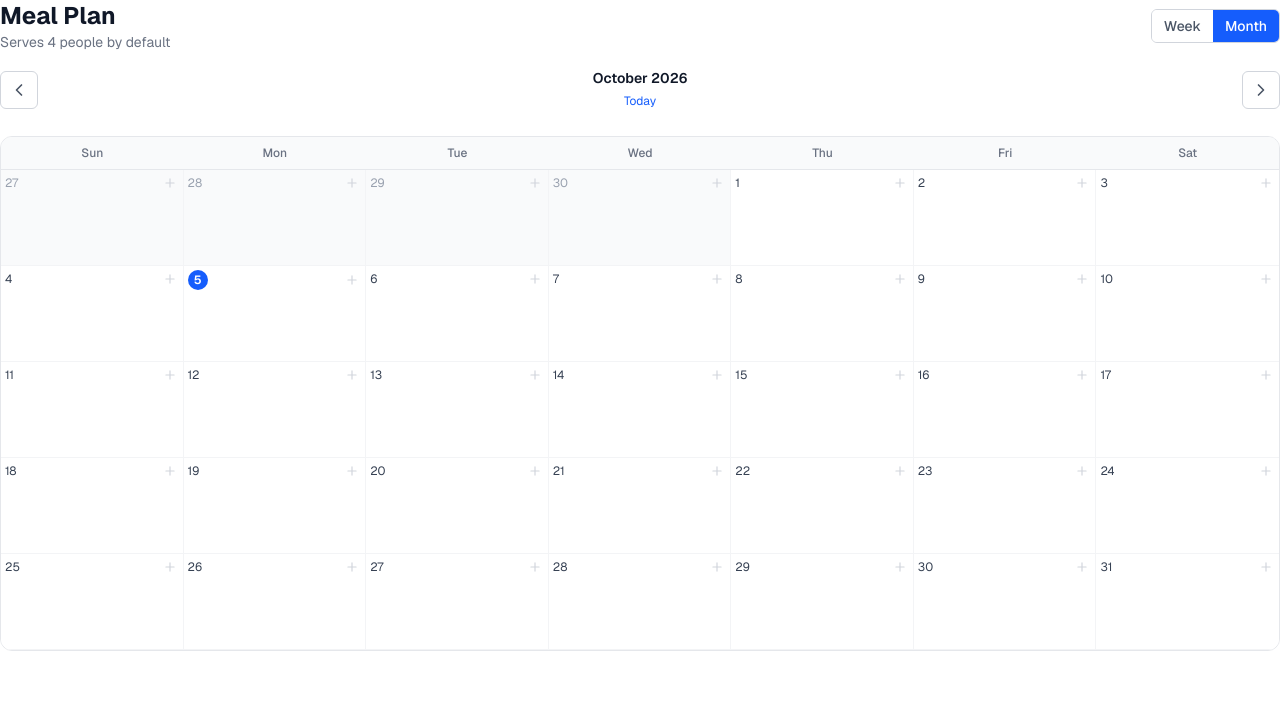
Test case: MealCalendarPage › opens the recipe picker from a day's add control (week view)
// Switch to week view where each slot has a labeled add button.
Step 1. Click the button "Week" → (1182, 26), box [1152,10,1213,42]
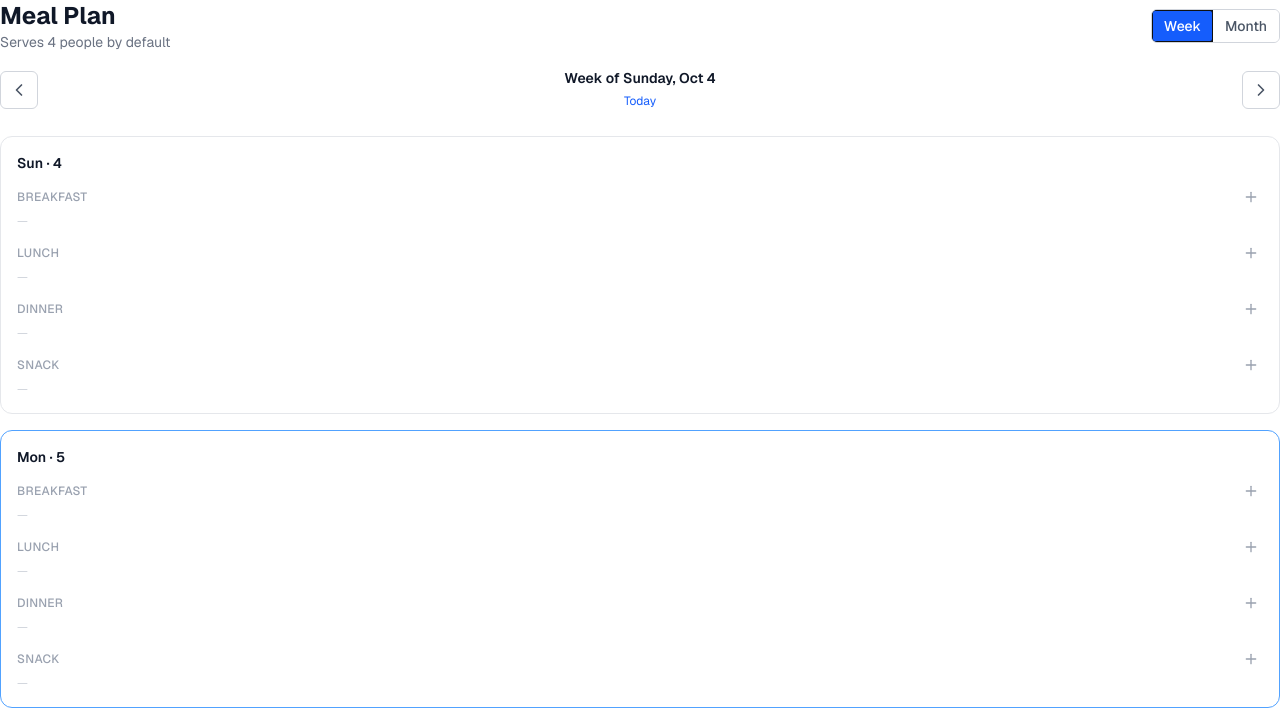
Step 2. Click the button named "Add a recipe to Dinner" → (1251, 309), box [1239,297,1263,321]
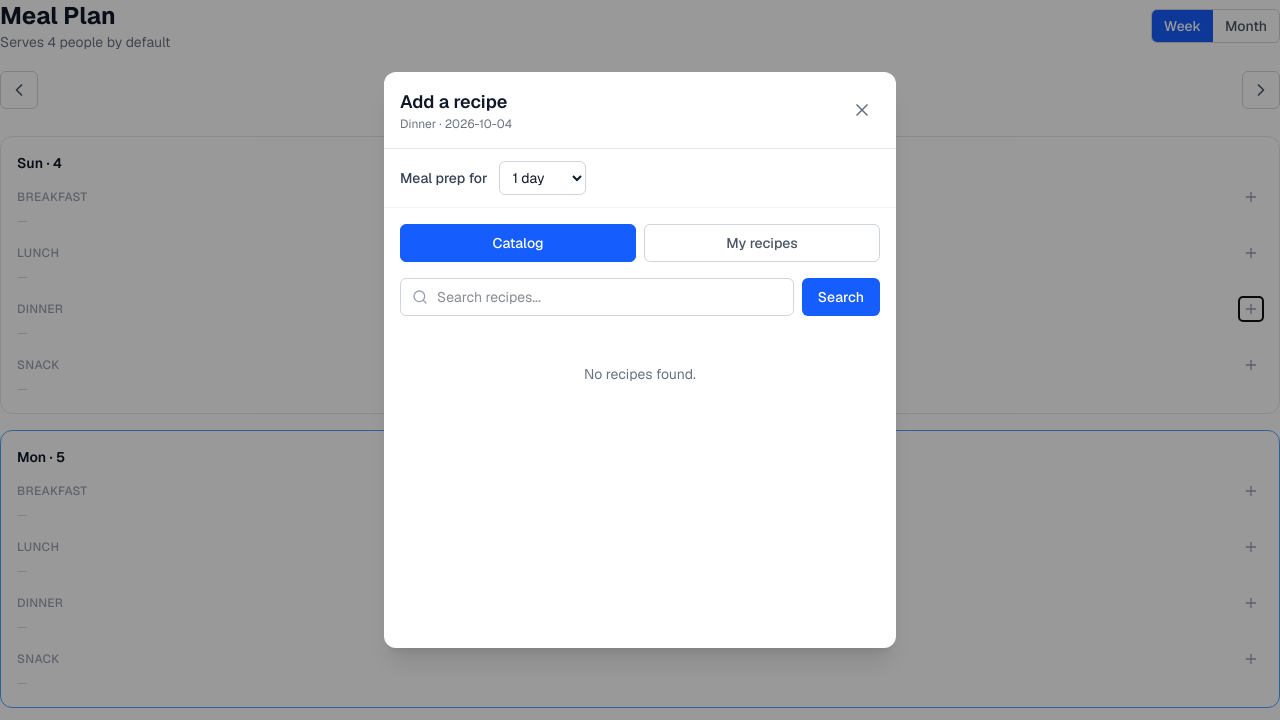
Expected: the dialog "Add a recipe" is shown
Expected: the dropdown labelled "Meal prep for" is shown, [500,161,586,195]
